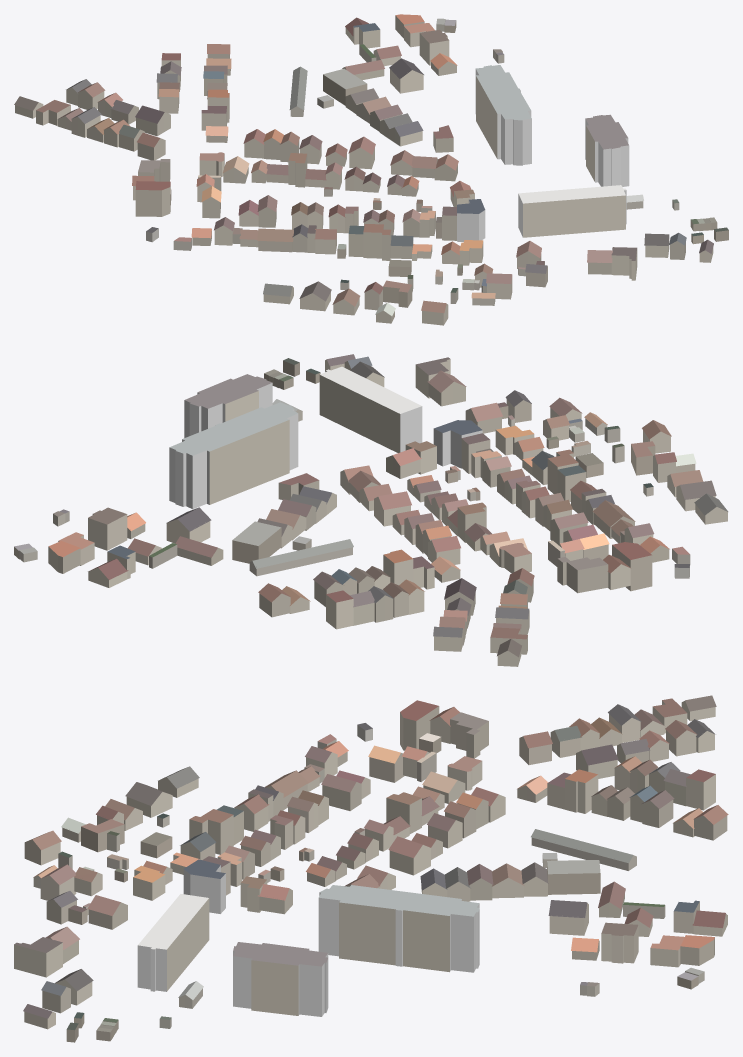
3 views of the same model, one above another, from view 1: azimuth 30°, elevation 25°; view 2: azimuth 150°, elevation 25°; view 3: azimuth 270°, elevation 25° (orthographic). The views are drawn at different scales.
Parts seen in each view (by area): view 1: tuile; view 2: tuile; view 3: tuile.
Part boxes in pixels (x1,y1,x2,y2): tuile: [14, 14, 728, 325]; tuile: [14, 354, 728, 666]; tuile: [14, 695, 728, 1042].
Size of the model in its own units: 245 by 36.14 by 265.
